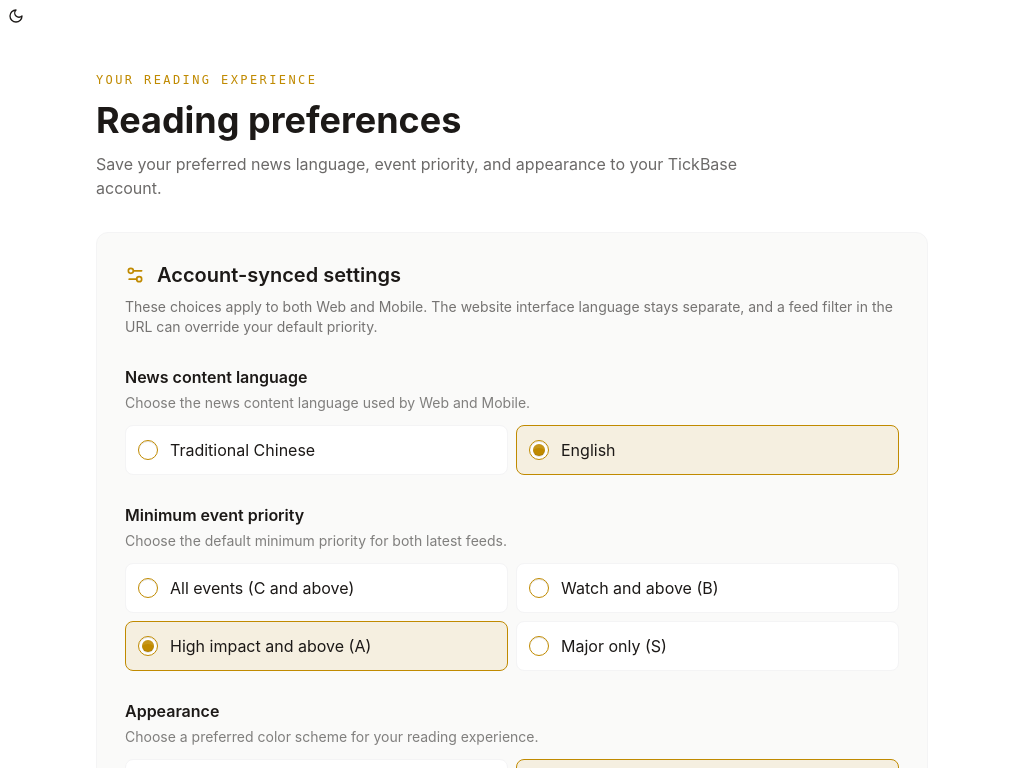
Test: account-applied Web reading › preserves unsaved page choices when the header syncs a theme change
Click the radio button labelled "Traditional Chinese".
click(148, 450)  # box [138, 440, 158, 460]
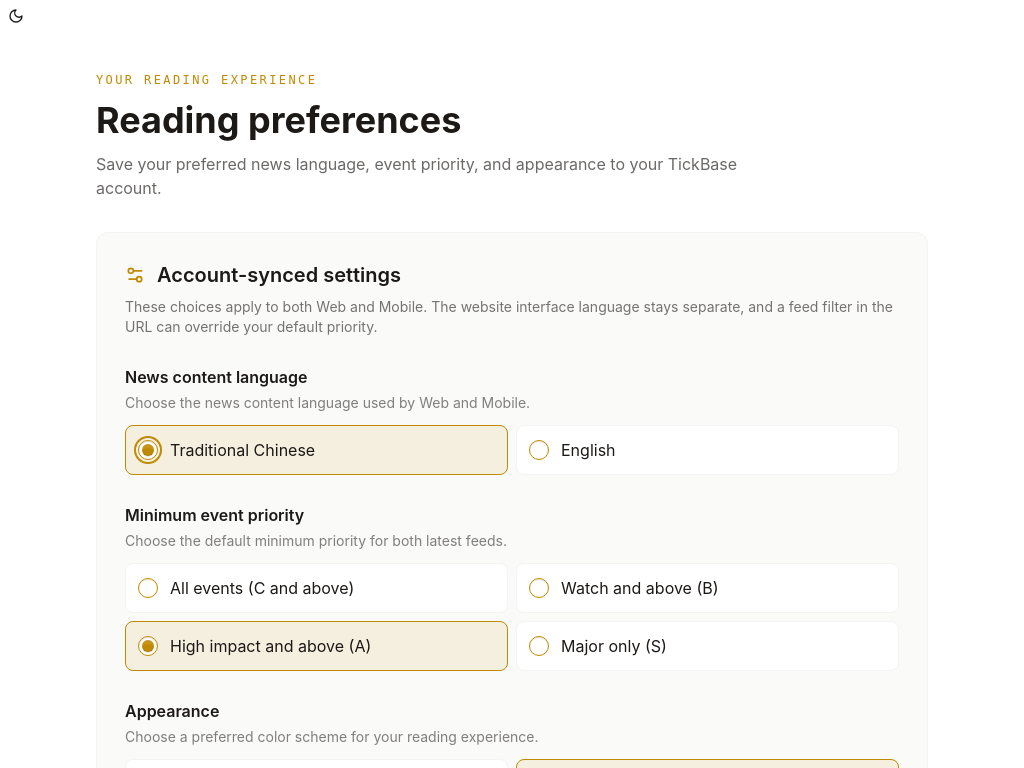
Click the button named "Toggle theme".
click(16, 16)  # box [0, 0, 32, 32]
(page scrolled)
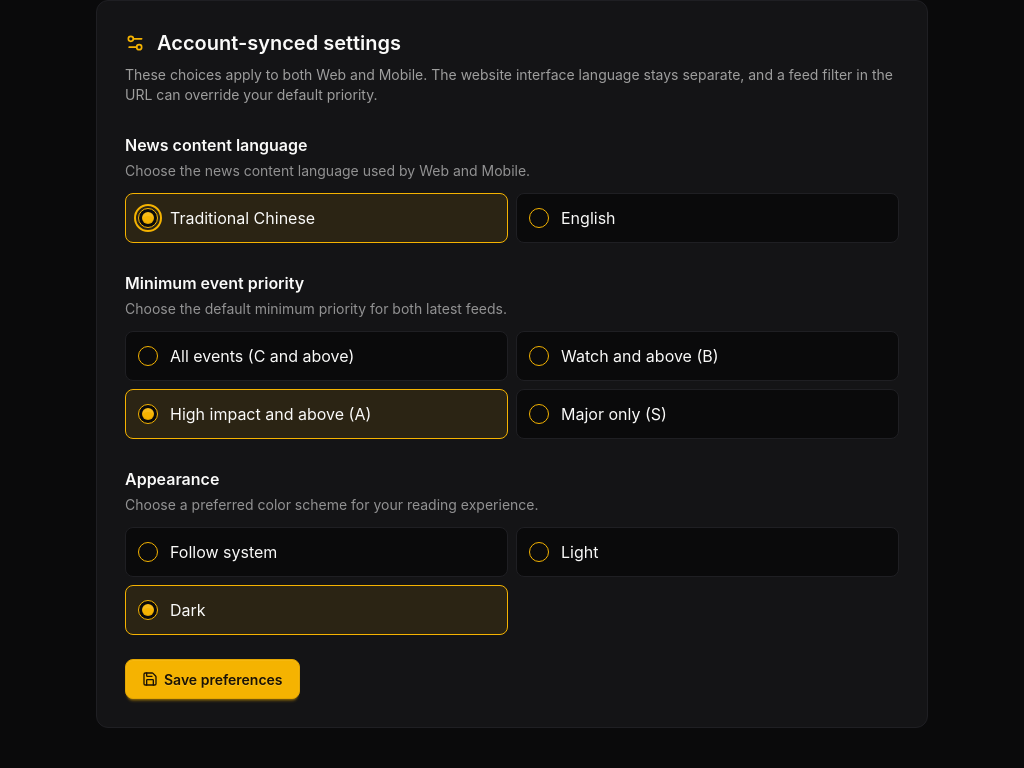
Expected: the radio button labelled "Traditional Chinese" is checked, [138, 208, 158, 228]
Expected: the radio button labelled "Dark" is checked, [138, 600, 158, 620]
